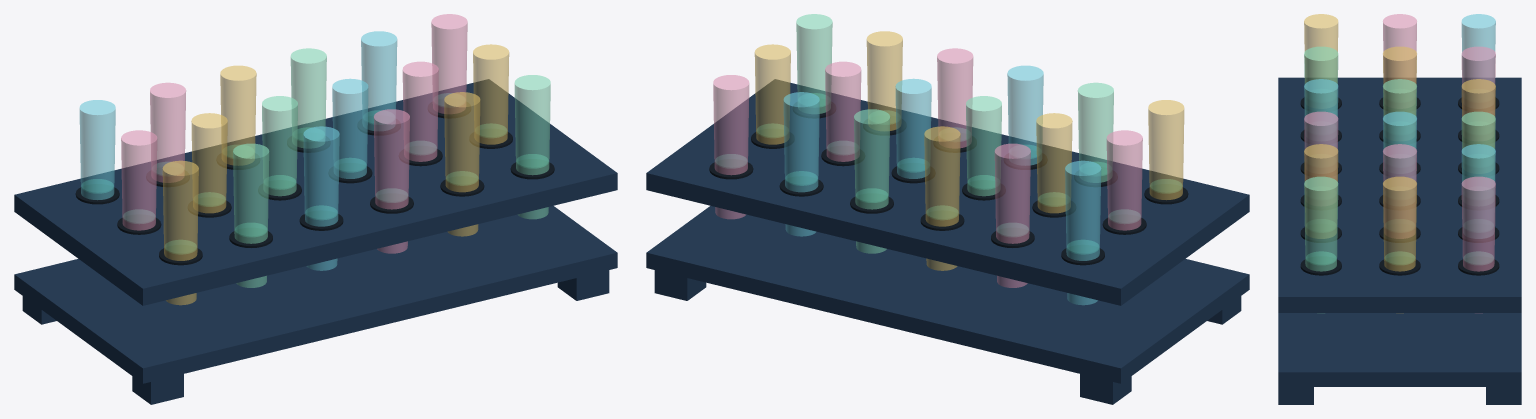
The model's file is test-tube-rack.glb.
The picture shows the model from 3 angles, left to right: view 1: azimuth 30°, elevation 25°; view 2: azimuth 150°, elevation 25°; view 3: azimuth 270°, elevation 25°; orthographic projection. The views are drawn at different scales.
Parts seen in each view (by area): view 1: perforated_top_plate, bottom_plate, colored_capped_tube_2_2, colored_capped_tube_2_4, colored_capped_tube_2_5, colored_capped_tube_2_1, colored_capped_tube_2_0, colored_capped_tube_2_3, colored_capped_tube_1_0, colored_capped_tube_0_0, colored_capped_tube_1_1, colored_capped_tube_1_3 (+22 smaller); view 2: perforated_top_plate, bottom_plate, colored_capped_tube_0_2, colored_capped_tube_0_4, colored_capped_tube_0_5, colored_capped_tube_0_1, colored_capped_tube_0_0, colored_capped_tube_0_3, colored_capped_tube_1_0, colored_capped_tube_2_0, colored_capped_tube_1_1, colored_capped_tube_1_3 (+22 smaller); view 3: perforated_top_plate, bottom_plate, colored_capped_tube_0_5, colored_capped_tube_2_5, colored_capped_tube_1_5, colored_capped_tube_0_4, colored_capped_tube_2_4, colored_capped_tube_1_4, colored_capped_tube_0_3, colored_capped_tube_2_3, colored_capped_tube_0_1, colored_capped_tube_2_1 (+18 smaller).
Part boxes in pixels (left/top/right/bottom): perforated_top_plate: left=14, top=79, right=617, bottom=305; bottom_plate: left=14, top=206, right=617, bottom=383; colored_capped_tube_2_2: left=303, top=126, right=339, bottom=270; colored_capped_tube_2_4: left=444, top=92, right=480, bottom=236; colored_capped_tube_2_5: left=514, top=75, right=550, bottom=219; colored_capped_tube_2_1: left=233, top=143, right=269, bottom=287; colored_capped_tube_2_0: left=162, top=160, right=198, bottom=305; colored_capped_tube_2_3: left=373, top=109, right=409, bottom=253; colored_capped_tube_1_0: left=121, top=130, right=157, bottom=230; colored_capped_tube_0_0: left=79, top=100, right=115, bottom=199; colored_capped_tube_1_1: left=191, top=113, right=227, bottom=213; colored_capped_tube_1_3: left=332, top=78, right=368, bottom=178; perforated_top_plate: left=646, top=79, right=1249, bottom=305; bottom_plate: left=646, top=206, right=1249, bottom=383; colored_capped_tube_0_2: left=924, top=126, right=960, bottom=270; colored_capped_tube_0_4: left=783, top=92, right=819, bottom=236; colored_capped_tube_0_5: left=713, top=75, right=749, bottom=219; colored_capped_tube_0_1: left=994, top=143, right=1030, bottom=287; colored_capped_tube_0_0: left=1065, top=160, right=1101, bottom=305; colored_capped_tube_0_3: left=854, top=109, right=890, bottom=253; colored_capped_tube_1_0: left=1106, top=130, right=1142, bottom=230; colored_capped_tube_2_0: left=1148, top=100, right=1184, bottom=199; colored_capped_tube_1_1: left=1036, top=113, right=1072, bottom=213; colored_capped_tube_1_3: left=895, top=78, right=931, bottom=178; perforated_top_plate: left=1278, top=77, right=1521, bottom=312; bottom_plate: left=1278, top=313, right=1521, bottom=386; colored_capped_tube_0_5: left=1461, top=176, right=1495, bottom=313; colored_capped_tube_2_5: left=1304, top=176, right=1338, bottom=313; colored_capped_tube_1_5: left=1383, top=176, right=1416, bottom=313; colored_capped_tube_0_4: left=1461, top=144, right=1495, bottom=238; colored_capped_tube_2_4: left=1304, top=144, right=1338, bottom=238; colored_capped_tube_1_4: left=1383, top=144, right=1416, bottom=238; colored_capped_tube_0_3: left=1461, top=111, right=1495, bottom=180; colored_capped_tube_2_3: left=1304, top=111, right=1338, bottom=180; colored_capped_tube_0_1: left=1461, top=46, right=1495, bottom=115; colored_capped_tube_2_1: left=1304, top=46, right=1338, bottom=115.
Bounding box in the file's own units: 14.5 × 6.05 × 6.8.
